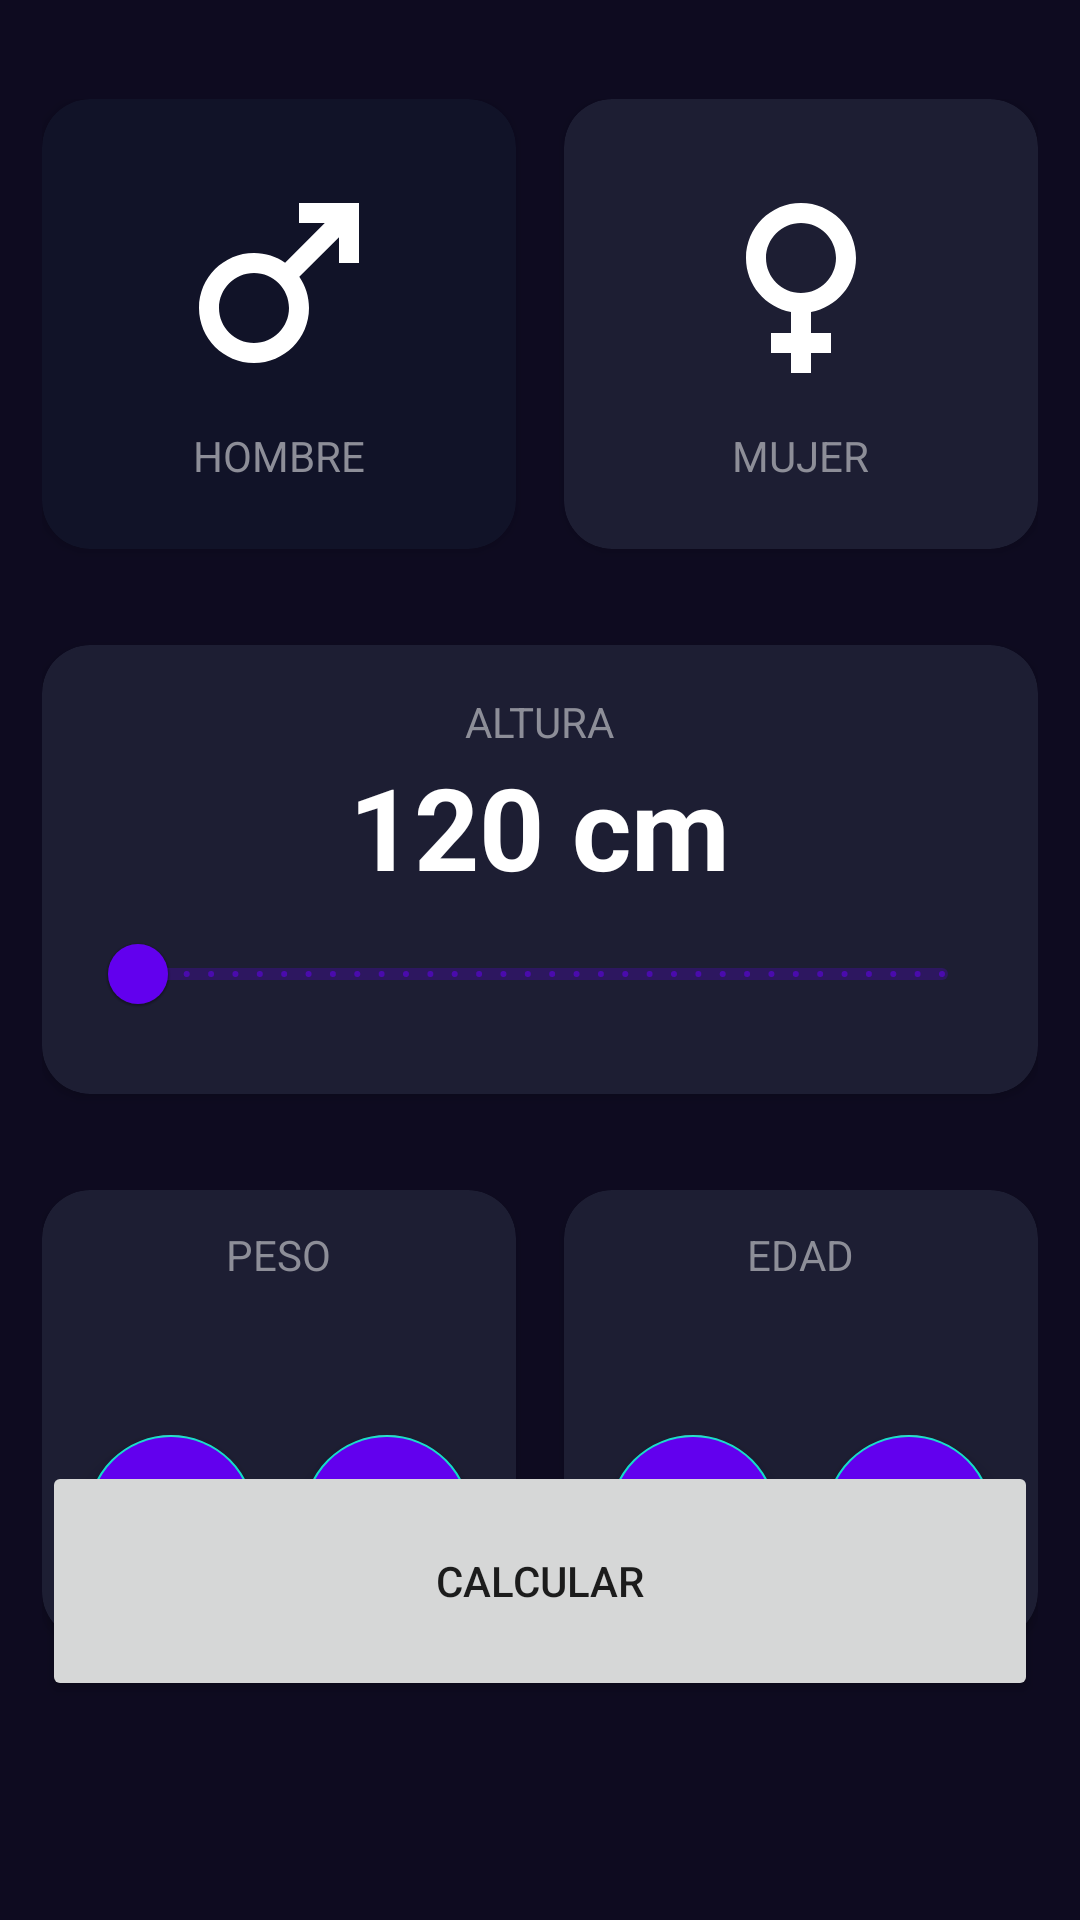

Icon bounding boxes for this 1080×1920 phone screenshot, format (x1, y1, x2, y2):
female: (746, 203, 856, 373)
male: (199, 203, 359, 363)
